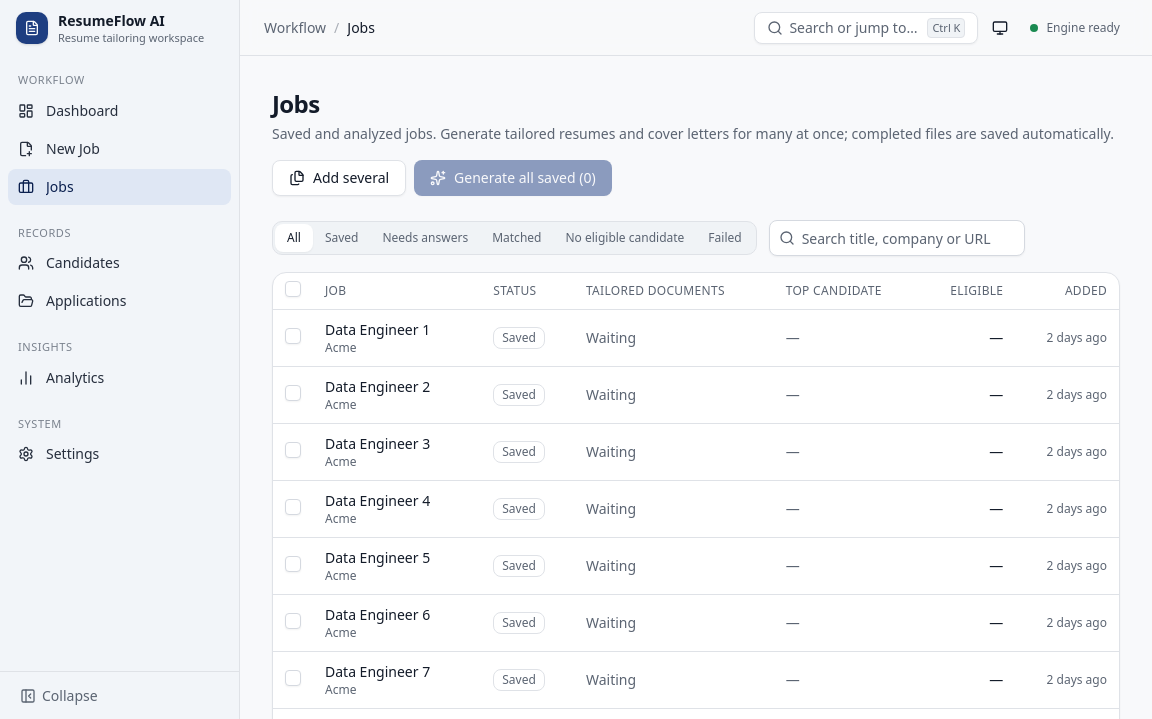
Test: job list pages › opens a job at the top instead of keeping the list scroll position
Click the link "Data Engineer 1" at (378, 329), box [325,320,430,338]
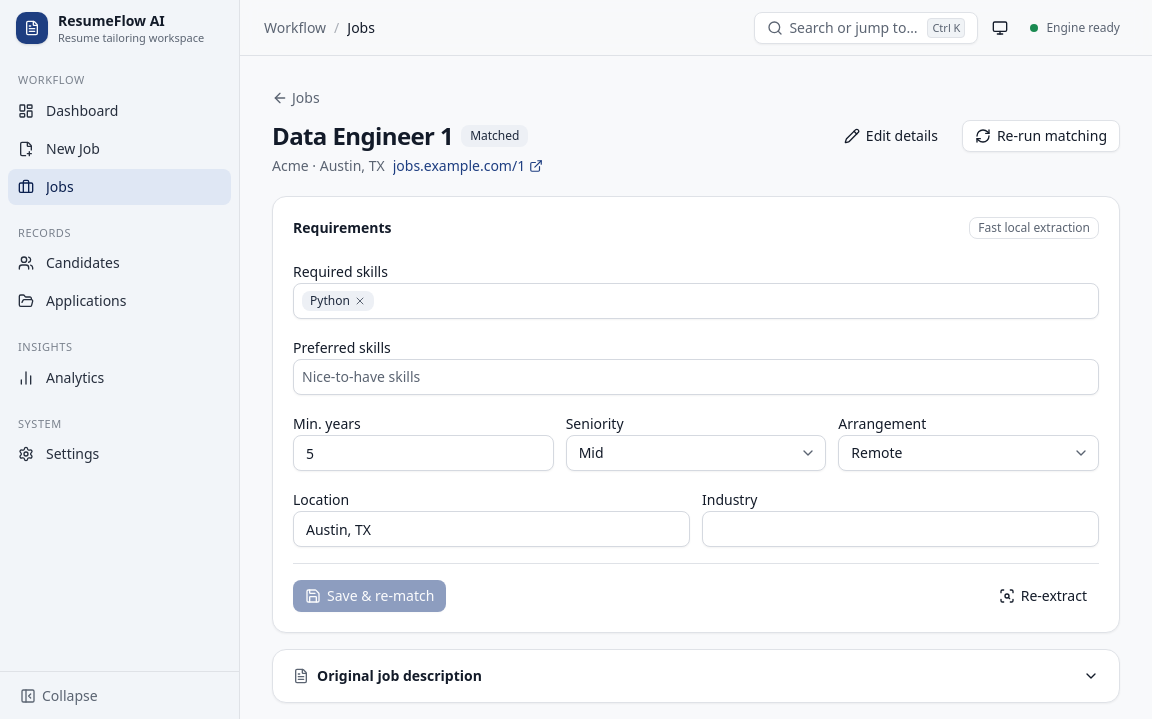
Now the heading "Data Engineer 1" is shown, box [272,120,453,152]
